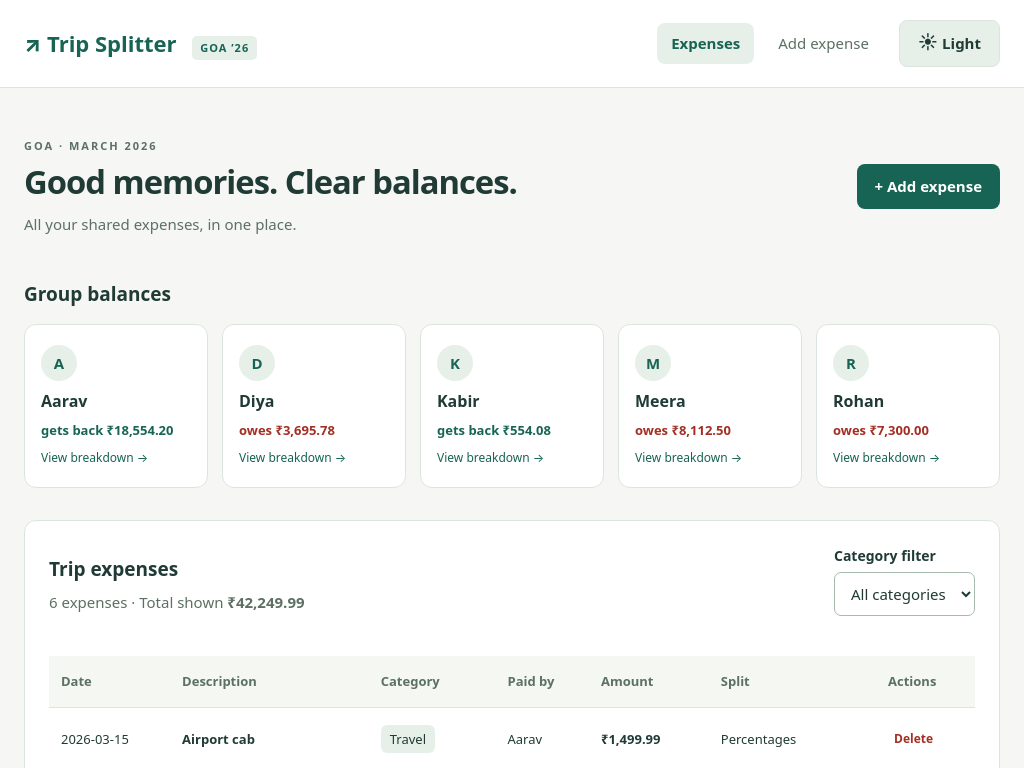
Test: filters expenses and displayed total
Expected: the text with test id "filtered-total" reads "₹42,249.99", [227, 592, 305, 612]
Select "Food" in the dropdown labelled "Category filter": (904, 594) [834, 572, 975, 616]
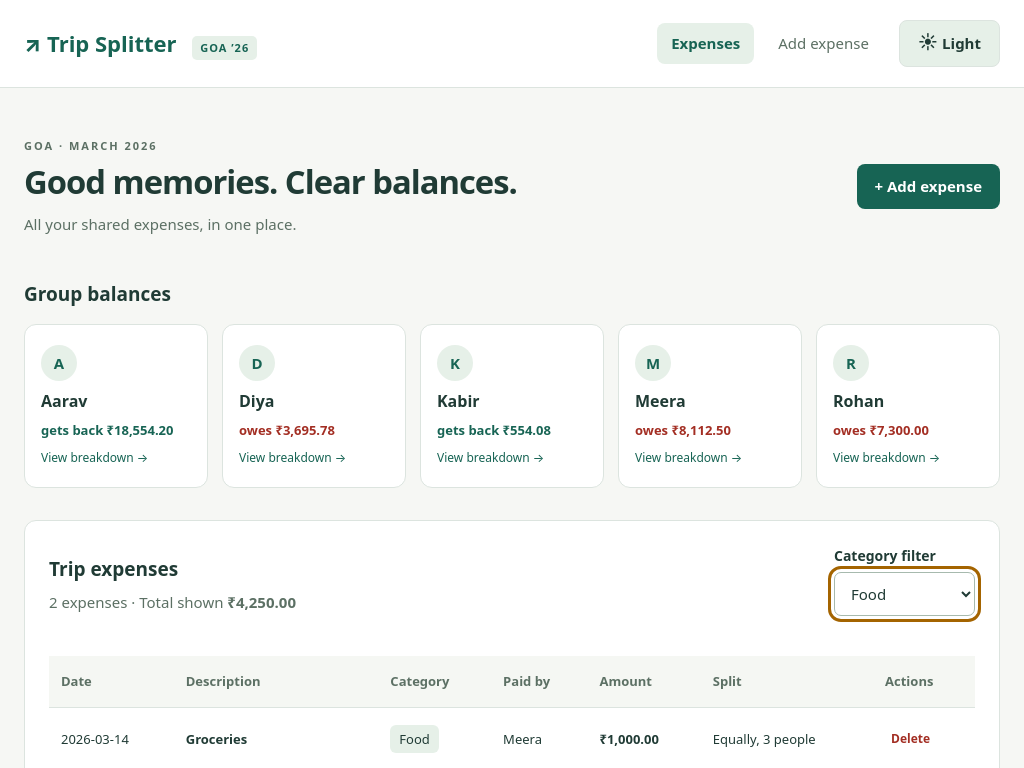
Expected: the button "Groceries" is shown, [186, 730, 247, 749]
Expected: the text with test id "filtered-total" reads "₹4,250.00", [227, 592, 296, 612]
Select "Other" in the dropdown labelled "Category filter": (904, 594) [834, 572, 975, 616]
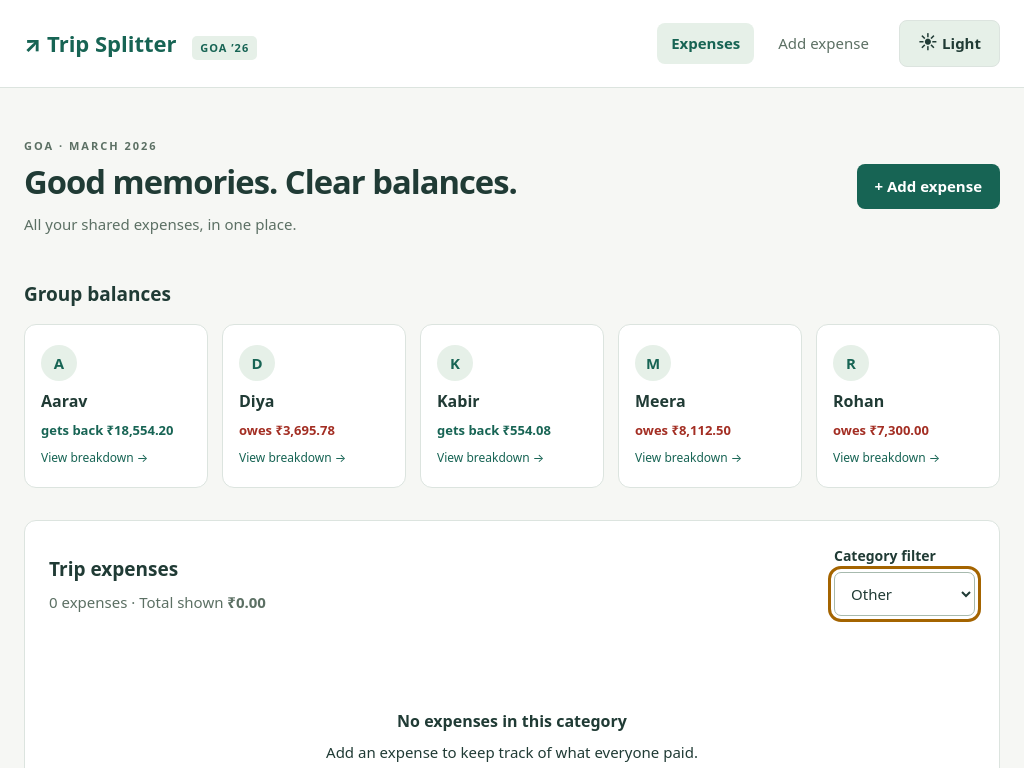
Expected: the heading "No expenses in this category" is shown, [397, 710, 627, 732]
Expected: the text with test id "filtered-total" reads "₹0.00", [227, 592, 266, 612]
